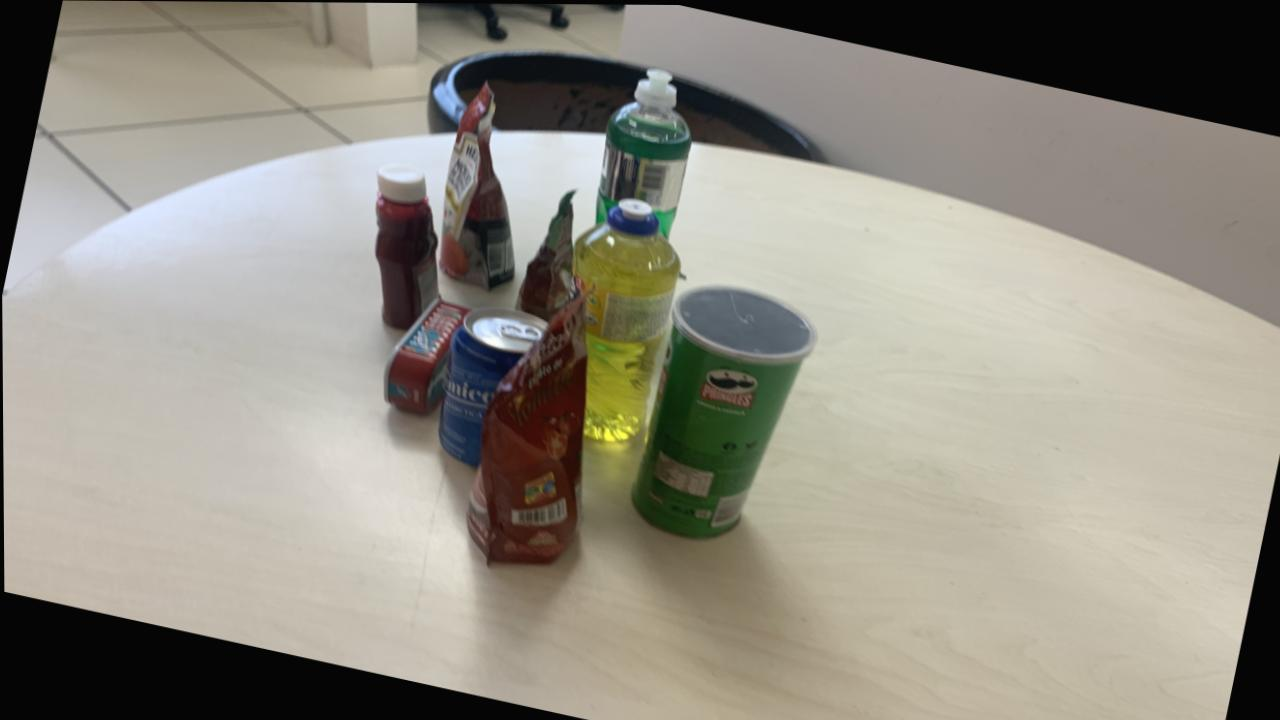Coffee-Pantry_Items: (515, 190, 575, 320)
Detergent-Cleanup_Items: (572, 198, 680, 441), (595, 68, 691, 237)
Ketchup-Pantry_Items: (374, 162, 438, 329)
Pringles-Snacks: (630, 284, 817, 537)
Tomato_Sauce-Pantry_Items: (465, 296, 586, 563), (438, 84, 514, 288)
Tonic-Drinks: (437, 306, 546, 465)
Tuna_Can-Pantry_Items: (382, 296, 469, 414)
